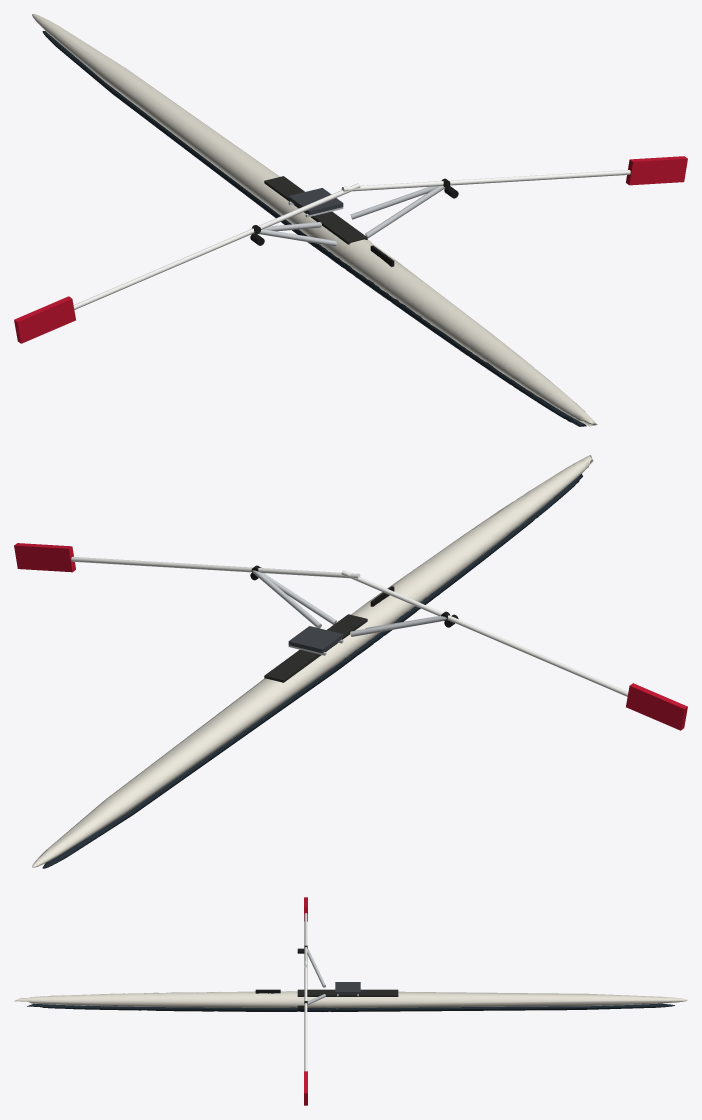
File: scull.glb
The picture shows the model from 3 angles, top to bottom: view 1: azimuth 30°, elevation 25°; view 2: azimuth 150°, elevation 25°; view 3: azimuth 270°, elevation 25°; orthographic projection. The views are drawn at different scales.
Visible parts, largest first — view 1: Hull, Hull_Underside, LeftOar_Shaft, LeftOar_Blade, RightOar_Shaft, RightOar_Blade, Cockpit, Seat_Pan; view 2: Hull, Hull_Underside, LeftOar_Shaft, LeftOar_Blade, RightOar_Shaft, RightOar_Blade, Cockpit, Seat_Pan; view 3: Hull, Hull_Underside, Cockpit, RightOar_Shaft, Seat_Pan.
Part boxes in pixels (left/top/right/bottom): Hull: left=32, top=14, right=597, bottom=426; Hull_Underside: left=42, top=31, right=586, bottom=426; LeftOar_Shaft: left=73, top=183, right=360, bottom=309; LeftOar_Blade: left=14, top=296, right=75, bottom=343; RightOar_Shaft: left=341, top=170, right=630, bottom=191; RightOar_Blade: left=626, top=156, right=687, bottom=185; Cockpit: left=264, top=176, right=367, bottom=244; Seat_Pan: left=288, top=188, right=343, bottom=215; Hull: left=32, top=455, right=593, bottom=867; Hull_Underside: left=42, top=473, right=582, bottom=868; LeftOar_Shaft: left=341, top=570, right=628, bottom=696; LeftOar_Blade: left=626, top=683, right=687, bottom=730; RightOar_Shaft: left=71, top=556, right=360, bottom=578; RightOar_Blade: left=14, top=543, right=75, bottom=572; Cockpit: left=264, top=614, right=367, bottom=682; Seat_Pan: left=288, top=626, right=343, bottom=653; Hull: left=14, top=991, right=687, bottom=1008; Hull_Underside: left=27, top=1003, right=674, bottom=1011; Cockpit: left=297, top=989, right=398, bottom=996; RightOar_Shaft: left=304, top=960, right=307, bottom=1071; Seat_Pan: left=335, top=982, right=360, bottom=994.
Bounding box in the file's own units: 5.53 × 0.6204 × 8.03.
